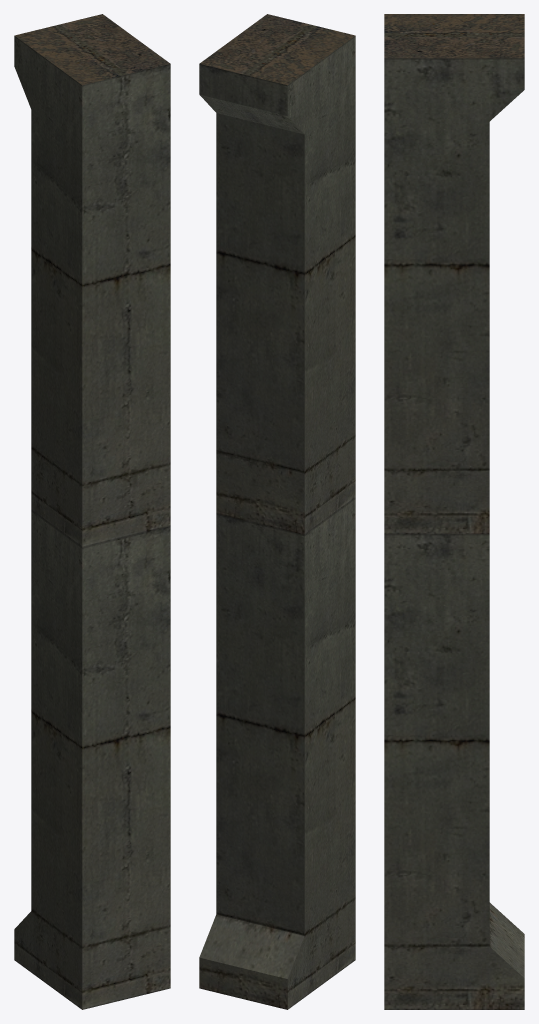
File: pillar_rg_9.obj
The picture shows the model from 3 angles, left to right: view 1: azimuth 30°, elevation 25°; view 2: azimuth 150°, elevation 25°; view 3: azimuth 270°, elevation 25°; orthographic projection. The views are drawn at different scales.
Parts seen in each view (by area): view 1: pillar_rg_9; view 2: pillar_rg_9; view 3: pillar_rg_9.
Boxes of the visible parts, left/top/right/bottom form: pillar_rg_9: left=14, top=14, right=170, bottom=1009; pillar_rg_9: left=199, top=14, right=355, bottom=1009; pillar_rg_9: left=384, top=14, right=524, bottom=1009.
Size of the model in its own units: 0.6 by 6 by 0.8.
